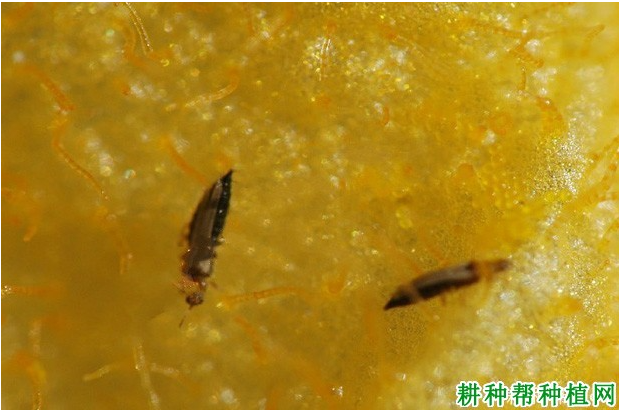thrips: (172, 168, 235, 307), (382, 256, 515, 310)
